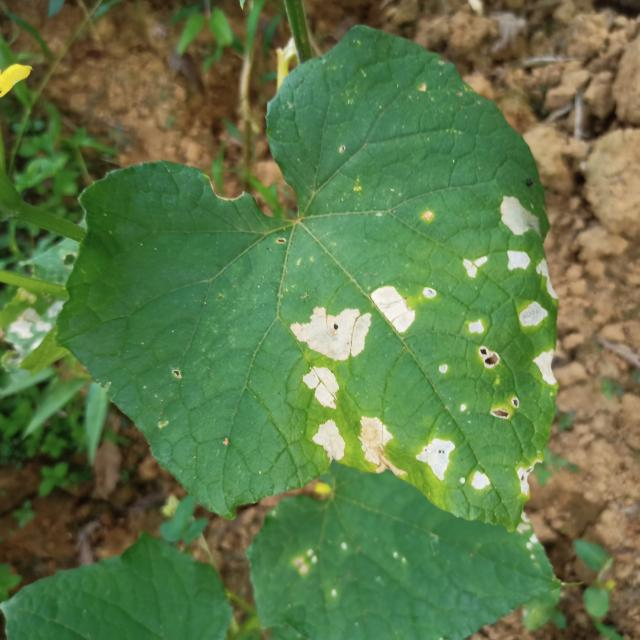disease_cucumber: (292, 286, 414, 361), (464, 198, 536, 284), (418, 437, 490, 493), (314, 418, 392, 464), (520, 256, 556, 332), (468, 317, 500, 370), (301, 367, 340, 409), (532, 349, 556, 384)
